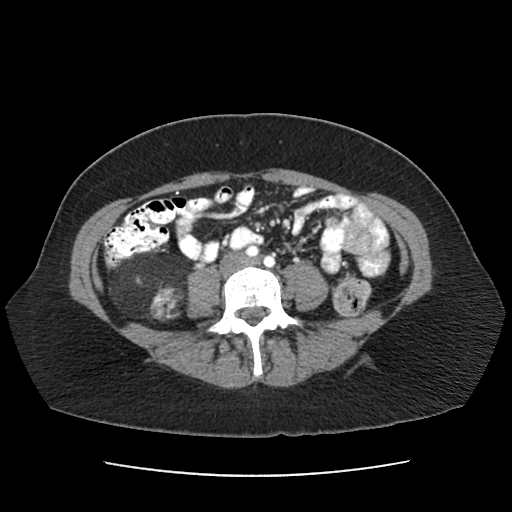Lesion: (103, 258, 189, 323)
